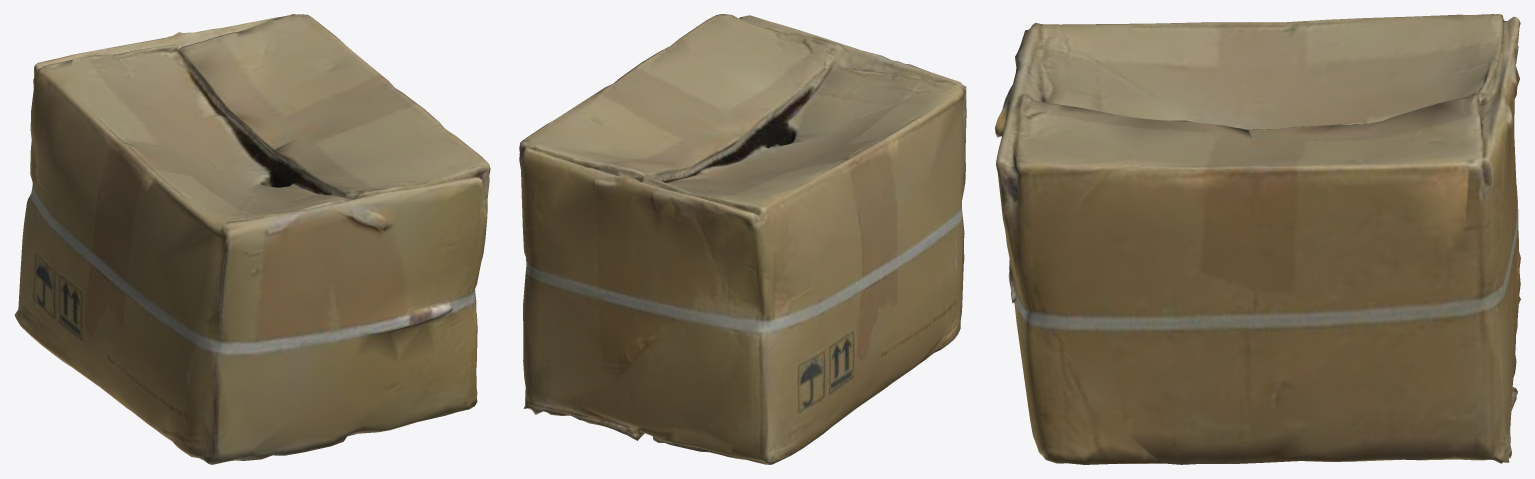
Rendered from cardboard_box_01.glb.
The picture shows the model from 3 angles, left to right: view 1: azimuth 30°, elevation 25°; view 2: azimuth 150°, elevation 25°; view 3: azimuth 270°, elevation 25°; orthographic projection. The views are drawn at different scales.
Visible parts, largest first — view 1: cardboard_box_01; view 2: cardboard_box_01; view 3: cardboard_box_01.
Part boxes in pixels (x1,y1,x2,y2): cardboard_box_01: (14,14,490,464); cardboard_box_01: (519,14,966,464); cardboard_box_01: (995,14,1520,464).
Bounding box in the file's own units: 0.3868 × 0.3418 × 0.5159.
1 material, 1 textured.
